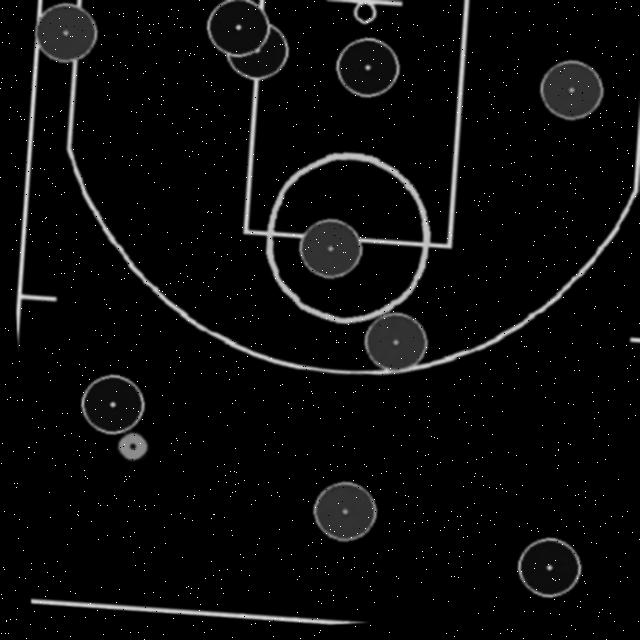Basketball: (111, 432, 145, 464)
Team_A: (510, 543, 575, 603), (223, 22, 288, 82), (335, 41, 399, 101), (76, 375, 140, 434), (206, 0, 269, 59)
Team_B: (306, 485, 371, 545), (295, 222, 360, 282), (360, 316, 424, 376), (538, 66, 602, 126), (34, 3, 97, 63)
